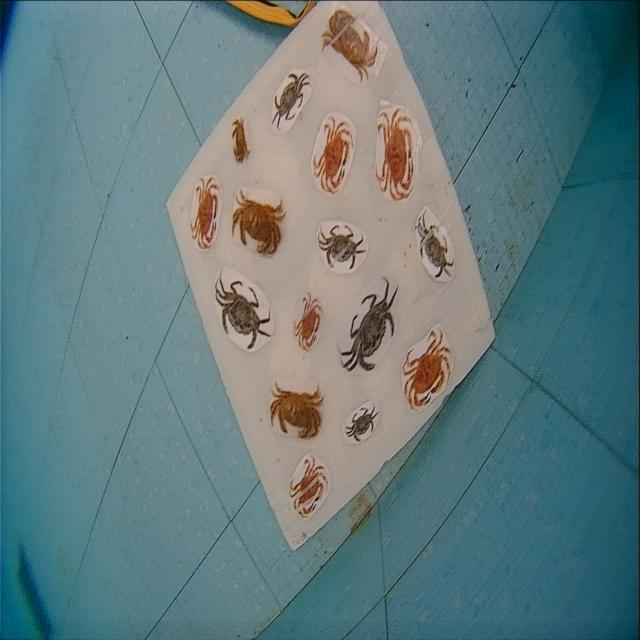GreenCrab: (341, 277, 397, 370), (216, 276, 270, 350), (417, 216, 453, 277), (274, 72, 310, 127), (319, 225, 363, 268)
